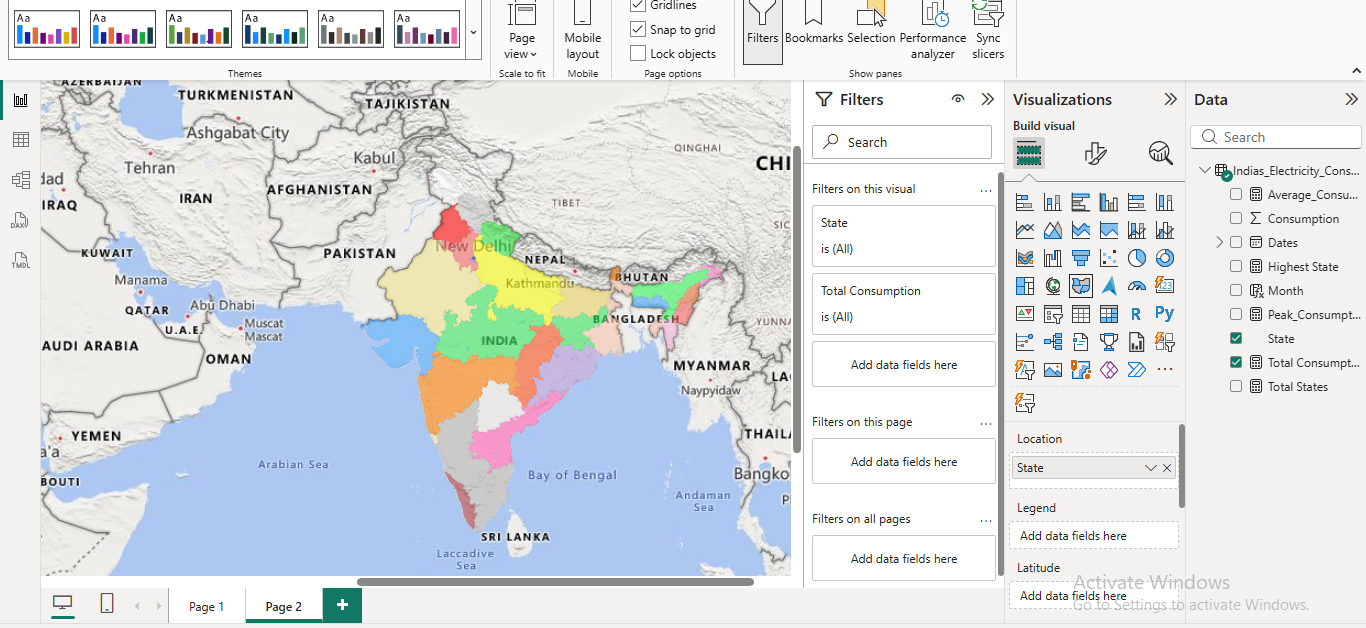

What the dashboard file says about the page in this screenshot:
{"tool":"powerbi","page":{"name":"Page 2","canvas":[1280,720],"ordinal":1},"visuals":[{"type":"filledMap","fields":{"Category":["Indias_Electricity_Consumption_Dataset.State"]},"box":[0,0,1280,720],"z":0}]}

Visuals, with their boxes on the page's 1280x720 design canvas (x1, y1, x2, y2). These are canvas units, not pixel positions in the 1366x628 screenshot, which may show the page scaled, cropped or inside an application window:
filledMap - Indias_Electricity_Consumption_Dataset.State: locate(0, 0, 1280, 720)
